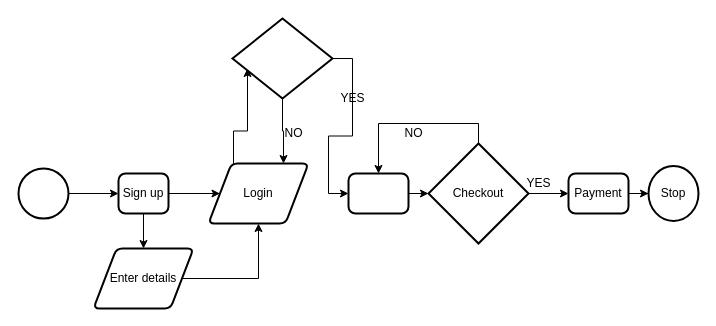
Image size: 716x326. Some labels were removed from this diagram. The box of each missing label's shape, as (x1, y1, x2, y2) in pixels:
Add to cart: (347, 172, 409, 214)
Correct credentials: (231, 17, 333, 99)
Start: (17, 167, 69, 219)
